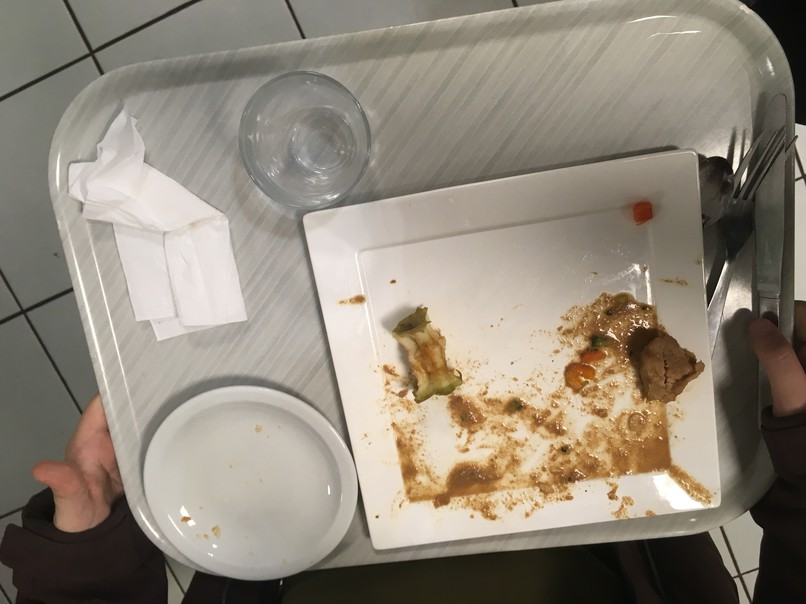cup: (212, 61, 382, 217)
cutlery: (701, 73, 792, 444)
orga: (389, 305, 471, 400), (632, 317, 704, 406), (565, 320, 616, 399)
trash: (67, 114, 253, 336)
